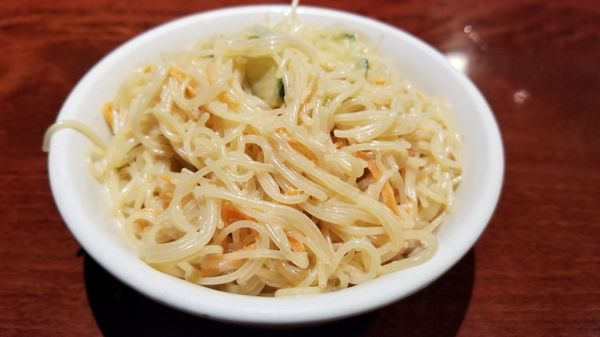sushi: (49, 1, 501, 327)
